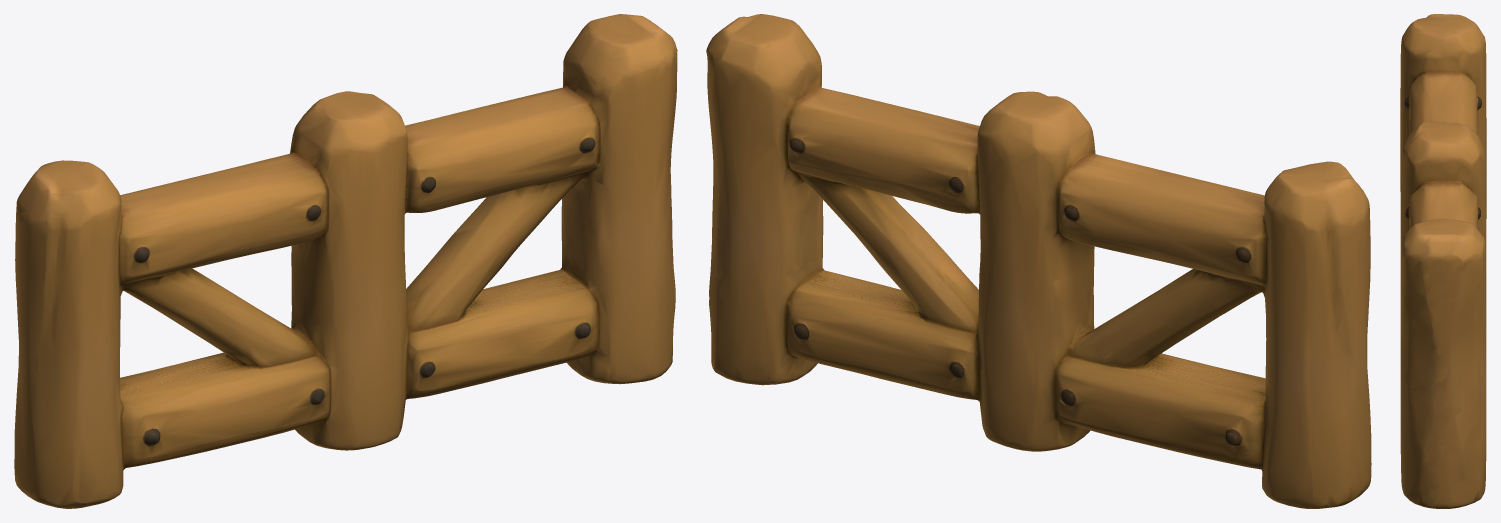
Rendered from Meshy_AI_Rustic_Wooden_Gate_0516144740_texture.fbx.
3 views of the same model, side by side, from view 1: azimuth 30°, elevation 25°; view 2: azimuth 150°, elevation 25°; view 3: azimuth 270°, elevation 25° (orthographic). The views are drawn at different scales.
Parts seen in each view (by area): view 1: Mesh_0; view 2: Mesh_0; view 3: Mesh_0.
Part boxes in pixels (x1,y1,x2,y2): Mesh_0: [14, 14, 677, 508]; Mesh_0: [706, 14, 1371, 508]; Mesh_0: [1400, 14, 1486, 508].
Size of the model in its own units: 191 by 95.52 by 27.99.
Materials: 1 (1 with a texture image).
